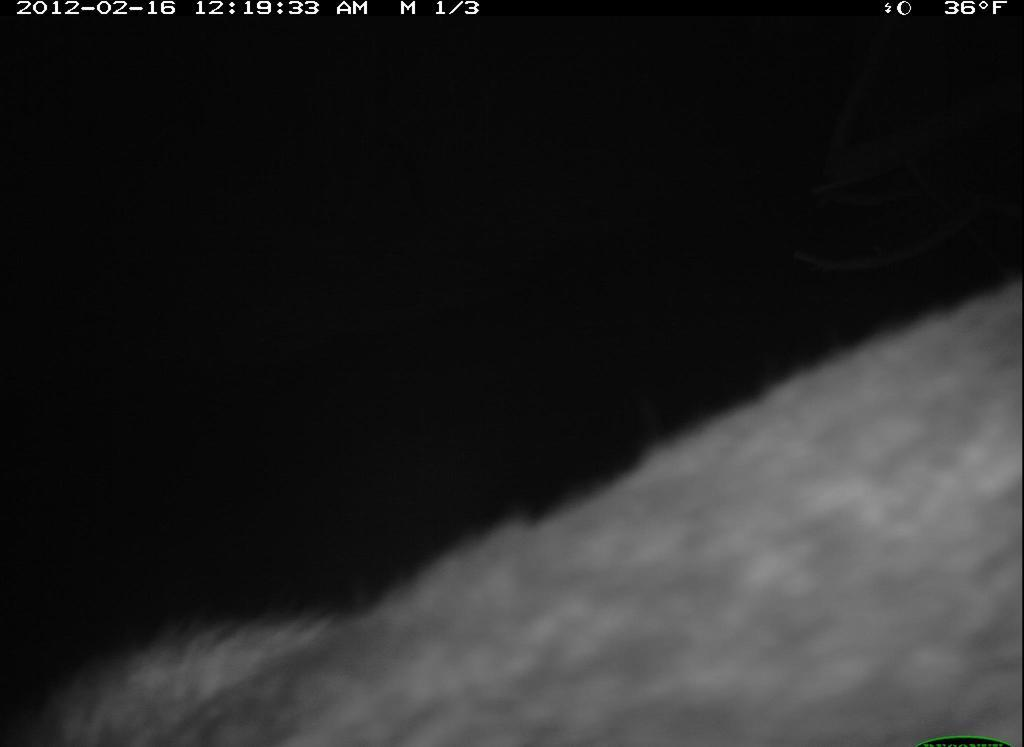raccoon: (1, 265, 1021, 747)
